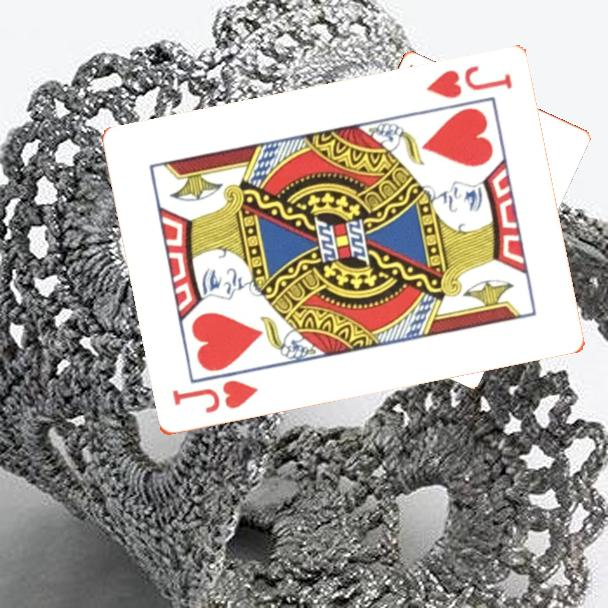h11: (168, 377, 261, 417), (423, 62, 515, 102)
